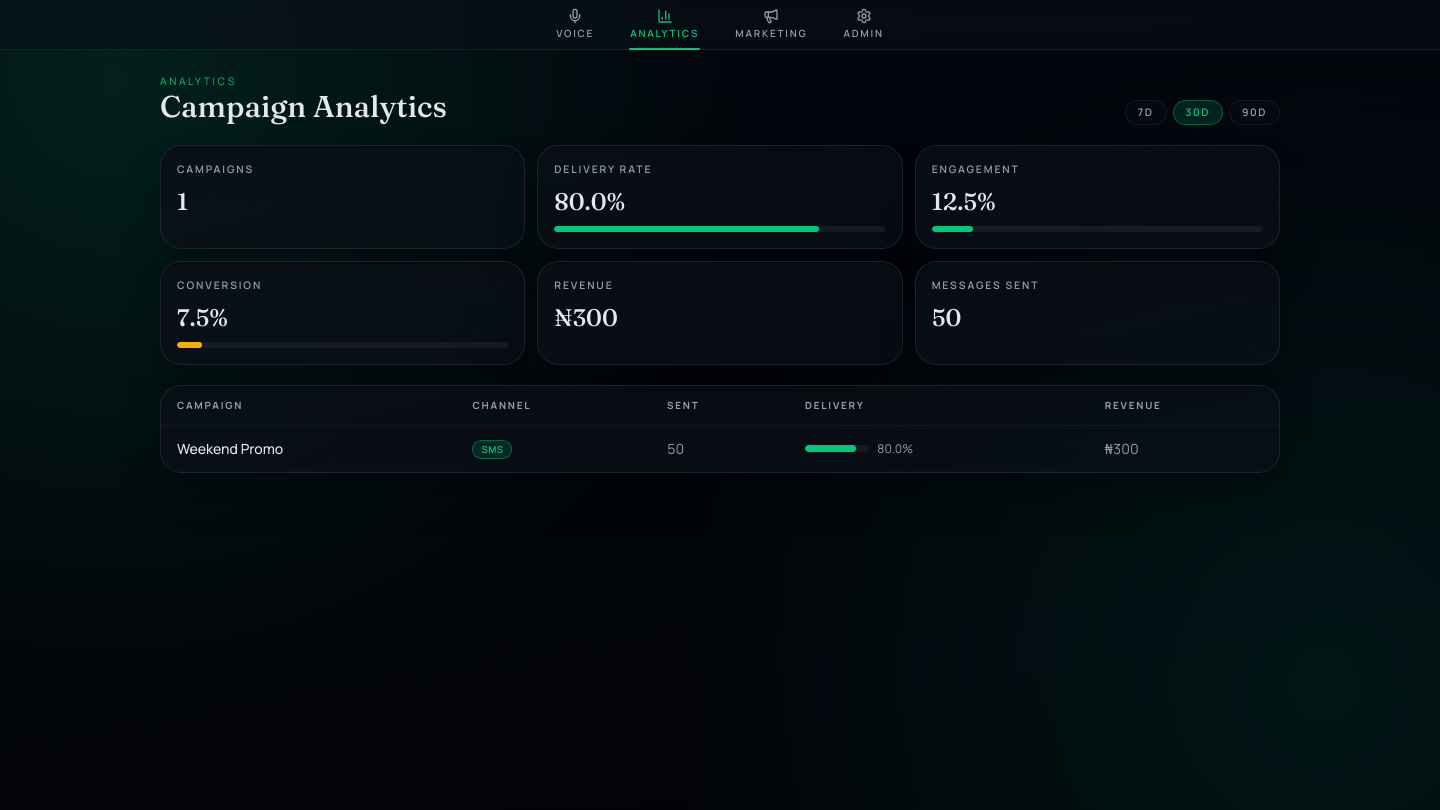
AnalyticsDashboard › clicking a campaign row shows campaign detail
Check: the text "Weekend Promo" is shown, box [161,425,456,472]
Click the text "Weekend Promo".
click(720, 449)  # box [161,425,1279,472]
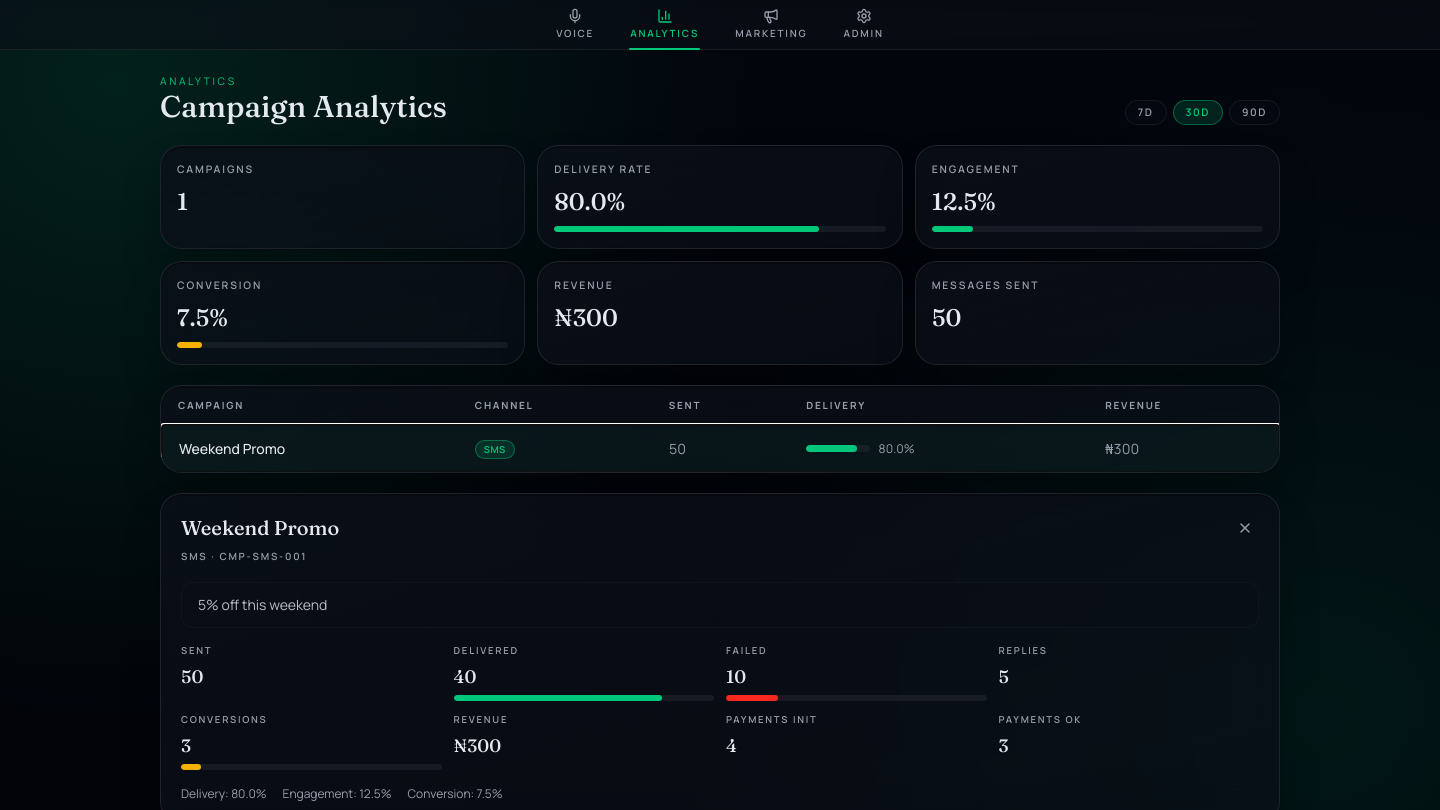
Check: the text "5% off this weekend" is shown, box [181,582,1259,628]
